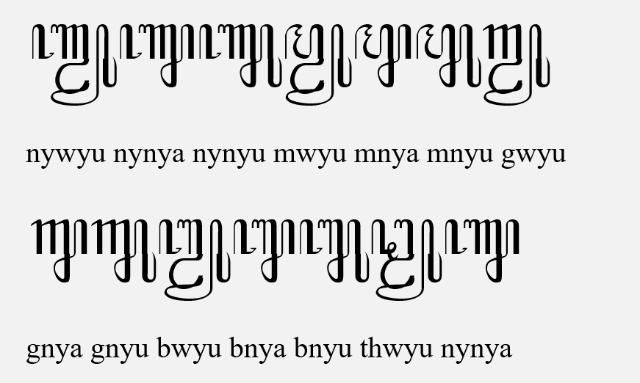bny: (232, 218, 296, 284)
bnyu: (298, 218, 369, 284)
bwyu: (157, 217, 230, 302)
gny: (30, 218, 88, 284)
gnyu: (91, 219, 157, 283)
gwyu: (482, 23, 550, 106)
mny: (354, 22, 412, 88)
mnyu: (416, 22, 482, 87)
mwyu: (285, 23, 353, 106)
nyny: (119, 24, 195, 88), (446, 219, 520, 284)
nynyu: (198, 23, 282, 87)
nywyu: (32, 23, 118, 107)
thwyu: (371, 218, 443, 302)
